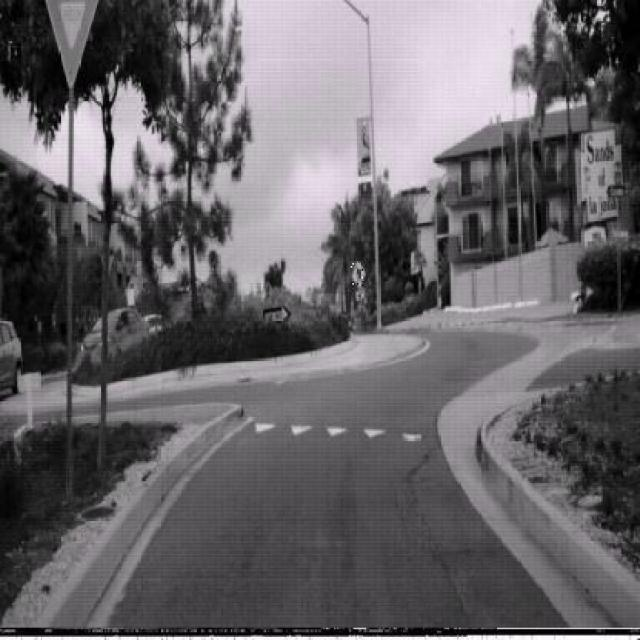pedestrianCrossing: (351, 262, 366, 292)
